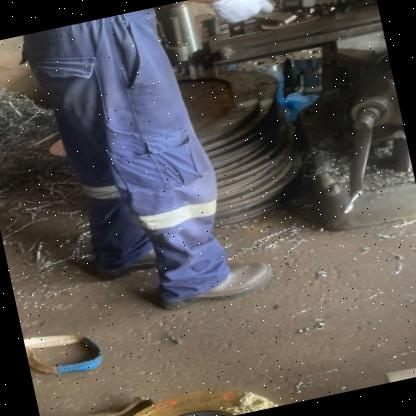bota: (158, 256, 278, 313), (94, 240, 162, 282)
